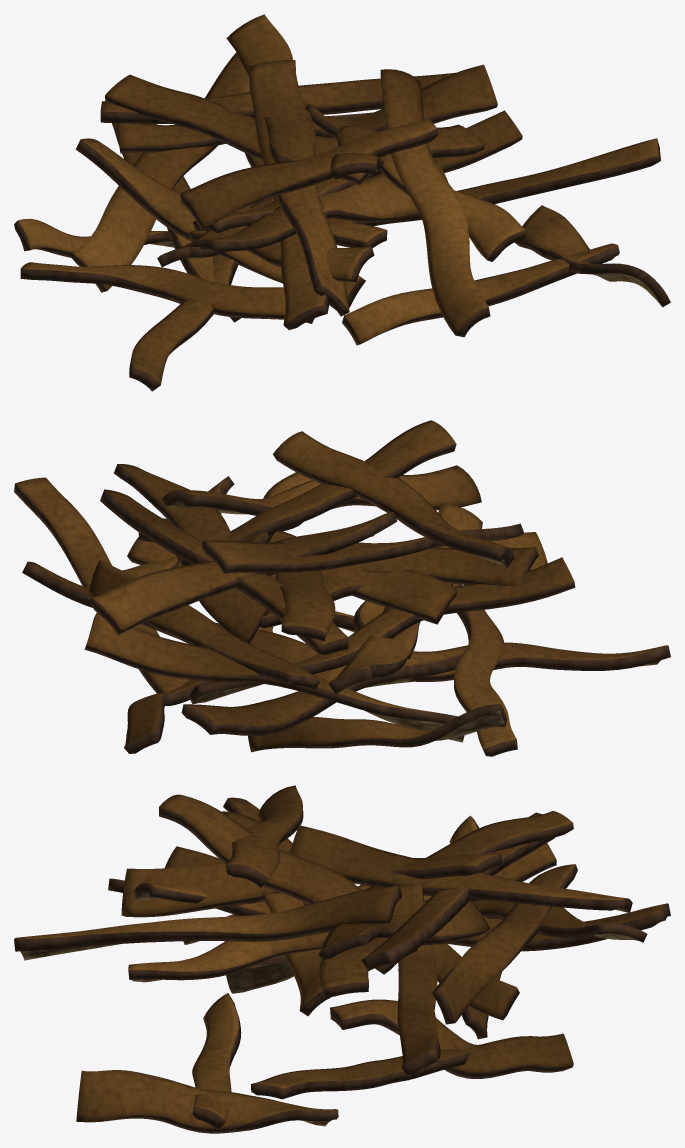
Rendered from chenpi.glb.
The picture shows the model from 3 angles, top to bottom: view 1: azimuth 30°, elevation 25°; view 2: azimuth 150°, elevation 25°; view 3: azimuth 270°, elevation 25°; orthographic projection. The views are drawn at different scales.
Visible parts, largest first — view 1: Chenpi; view 2: Chenpi; view 3: Chenpi.
Part boxes in pixels (box(x1,y1,x2,y2)): Chenpi: box(14, 14, 670, 391); Chenpi: box(14, 420, 670, 756); Chenpi: box(14, 785, 670, 1133).
Bounding box in the file's own units: 0.0794 × 0.0278 × 0.0734.
Materials: 1 (1 with a texture image).
